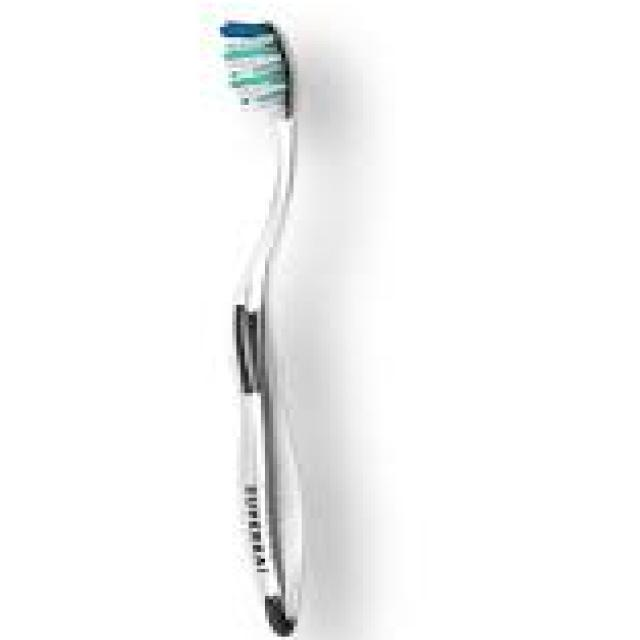organic: (204, 14, 316, 635)
